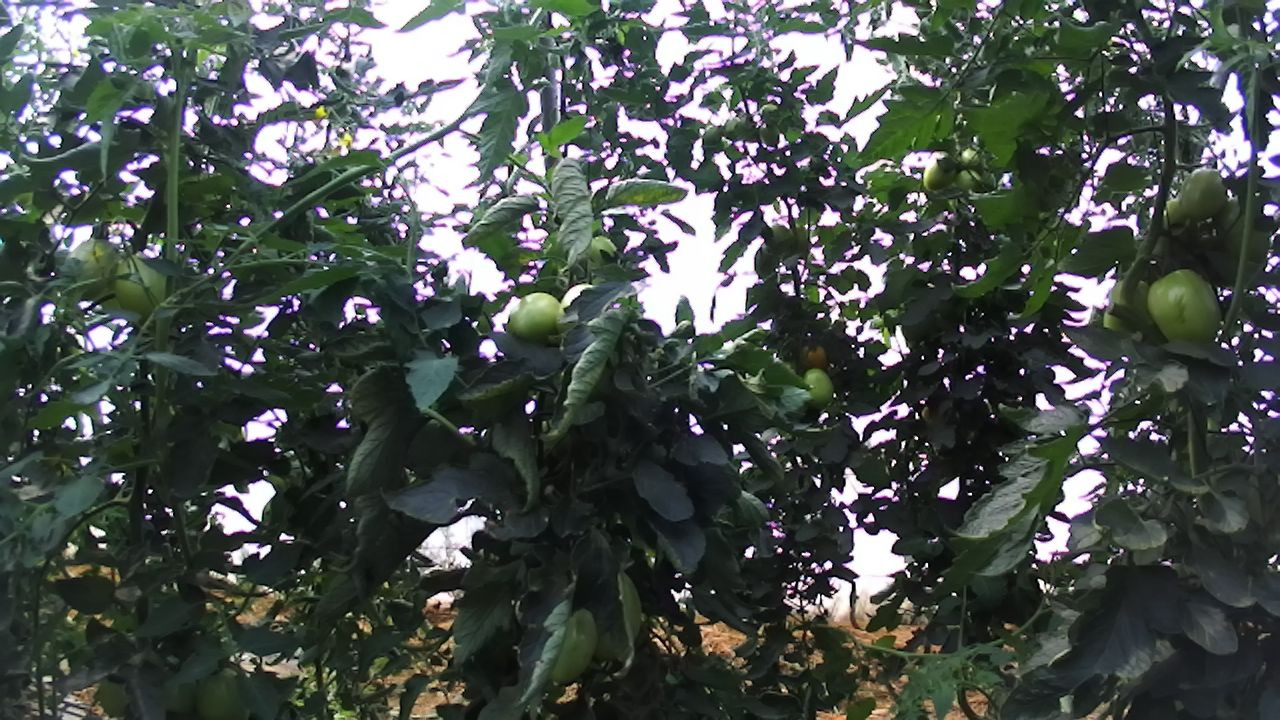tomato: (530, 598, 608, 698), (1143, 264, 1223, 348), (186, 659, 262, 720), (1176, 164, 1230, 221), (504, 291, 563, 342), (918, 145, 961, 197), (800, 365, 837, 412)
